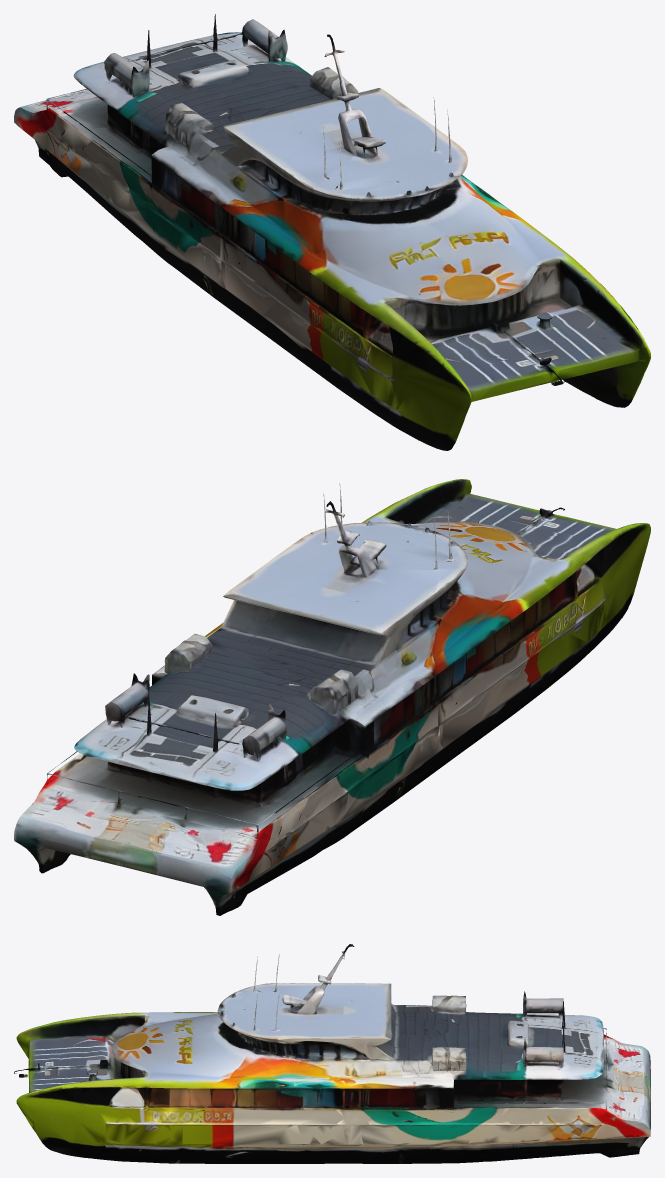
Rendered from fast-ferry.glb.
The picture shows the model from 3 angles, top to bottom: view 1: azimuth 30°, elevation 25°; view 2: azimuth 150°, elevation 25°; view 3: azimuth 270°, elevation 25°; orthographic projection. The views are drawn at different scales.
Parts seen in each view (by area): view 1: vehicle; view 2: vehicle; view 3: vehicle.
Boxes of the visible parts, box(x1,y1,x2,y2) form: vehicle: box(14, 14, 650, 450); vehicle: box(14, 479, 650, 915); vehicle: box(14, 944, 650, 1163).
Size of the model in its own units: 11.49 by 13.1 by 40.
Materials: 1 (1 with a texture image).
